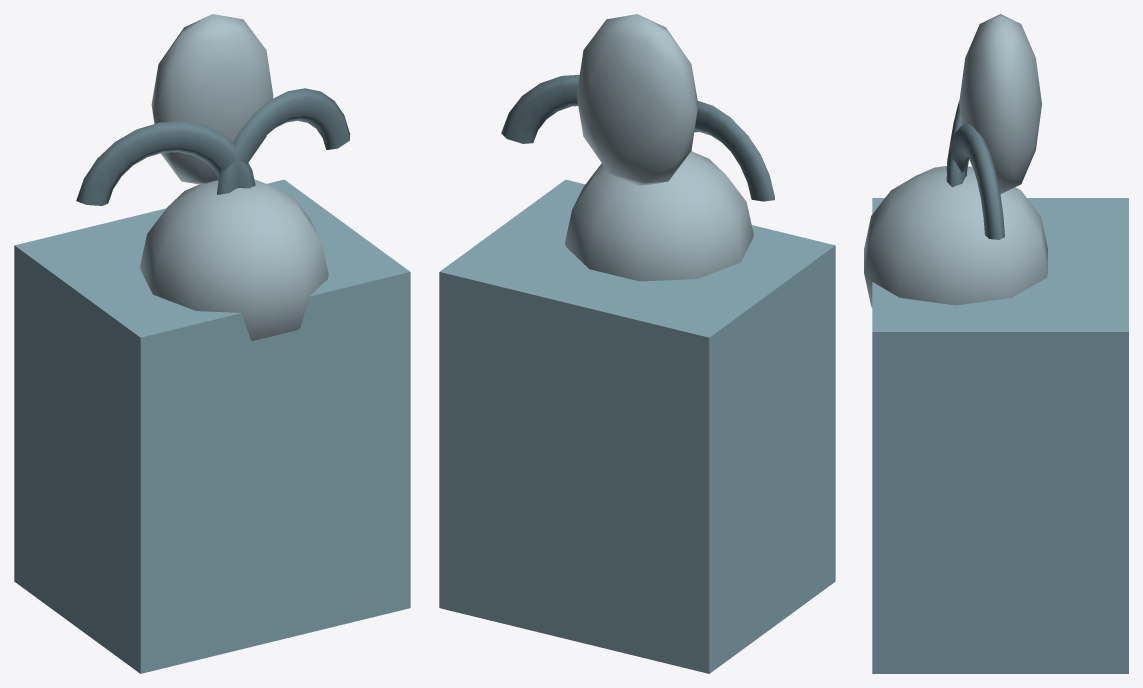
File: snow_elite.glb
3 views of the same model, side by side, from view 1: azimuth 30°, elevation 25°; view 2: azimuth 150°, elevation 25°; view 3: azimuth 270°, elevation 25° (orthographic).
Visible parts, largest first — view 1: CoreBody, Head, ELITE_snow_crest, MOTIF_snow_antler_-1, MOTIF_snow_antler_1; view 2: CoreBody, Head, ELITE_snow_crest, MOTIF_snow_antler_-1, MOTIF_snow_antler_1; view 3: CoreBody, Head, ELITE_snow_crest, MOTIF_snow_antler_1, MOTIF_snow_antler_-1.
Boxes of the visible parts, left/top/right/bottom form: CoreBody: left=14, top=179, right=410, bottom=673; Head: left=140, top=179, right=328, bottom=340; ELITE_snow_crest: left=151, top=14, right=273, bottom=184; MOTIF_snow_antler_-1: left=76, top=121, right=255, bottom=205; MOTIF_snow_antler_1: left=217, top=88, right=350, bottom=194; CoreBody: left=439, top=179, right=835, bottom=673; Head: left=565, top=151, right=753, bottom=281; ELITE_snow_crest: left=576, top=14, right=698, bottom=185; MOTIF_snow_antler_-1: left=694, top=101, right=774, bottom=201; MOTIF_snow_antler_1: left=501, top=74, right=579, bottom=143; CoreBody: left=872, top=198, right=1128, bottom=673; Head: left=864, top=166, right=1047, bottom=307; ELITE_snow_crest: left=959, top=14, right=1041, bottom=194; MOTIF_snow_antler_1: left=946, top=123, right=1004, bottom=239; MOTIF_snow_antler_-1: left=946, top=101, right=965, bottom=187.
Size of the model in its own units: 1.3 by 2.63 by 1.07.
